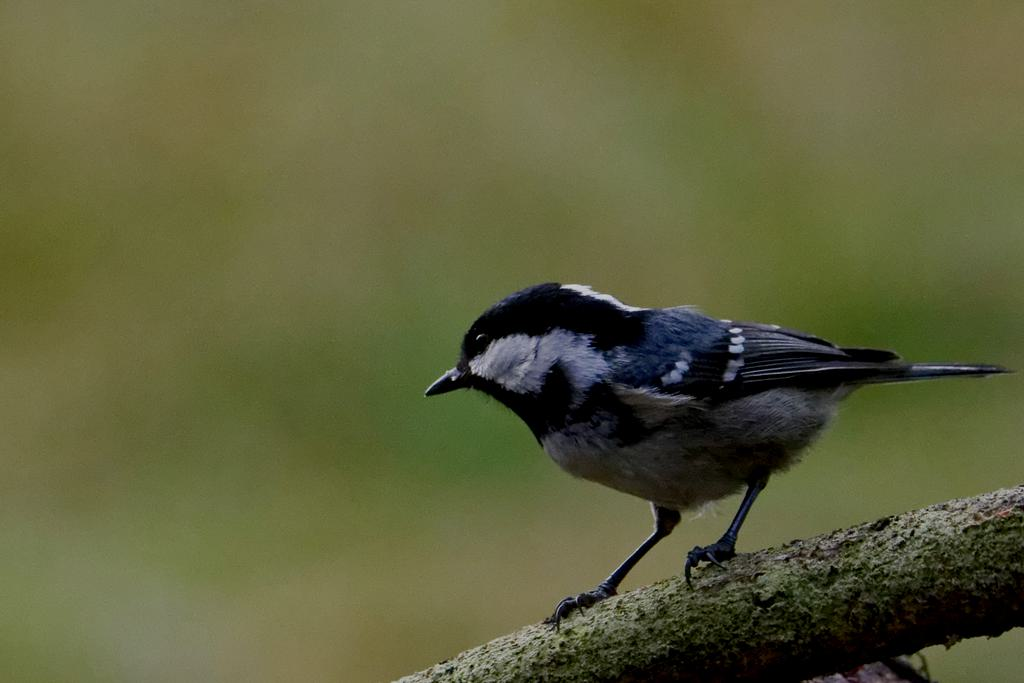PeriparusAter: (422, 280, 1019, 634)
